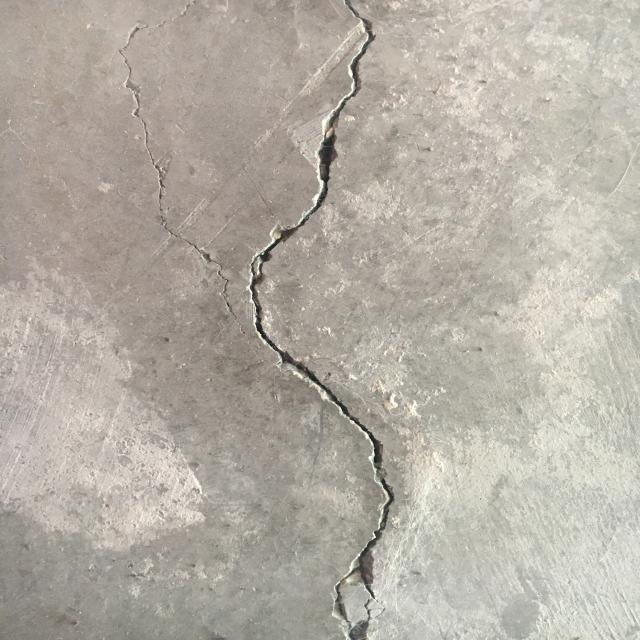Rachadura: (247, 0, 398, 640), (118, 3, 247, 337)
